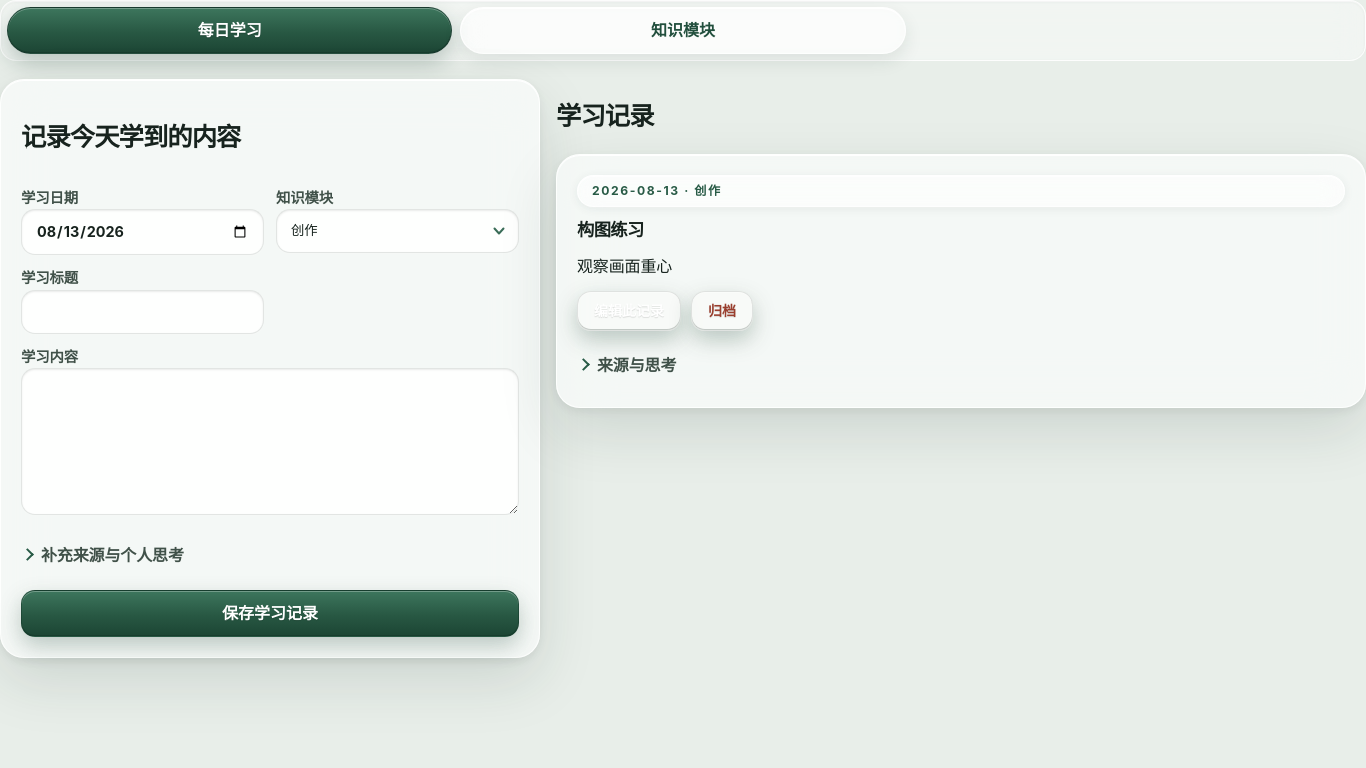
Scenario: PersonalKnowledgeWorkspace › uses compact module actions, confirms archive, and keeps archived modules discoverable
The width and height of the screenshot is (1366, 768).
Click the tab "知识模块".
click(683, 30)  # box top-left (460, 7), bottom-right (906, 54)
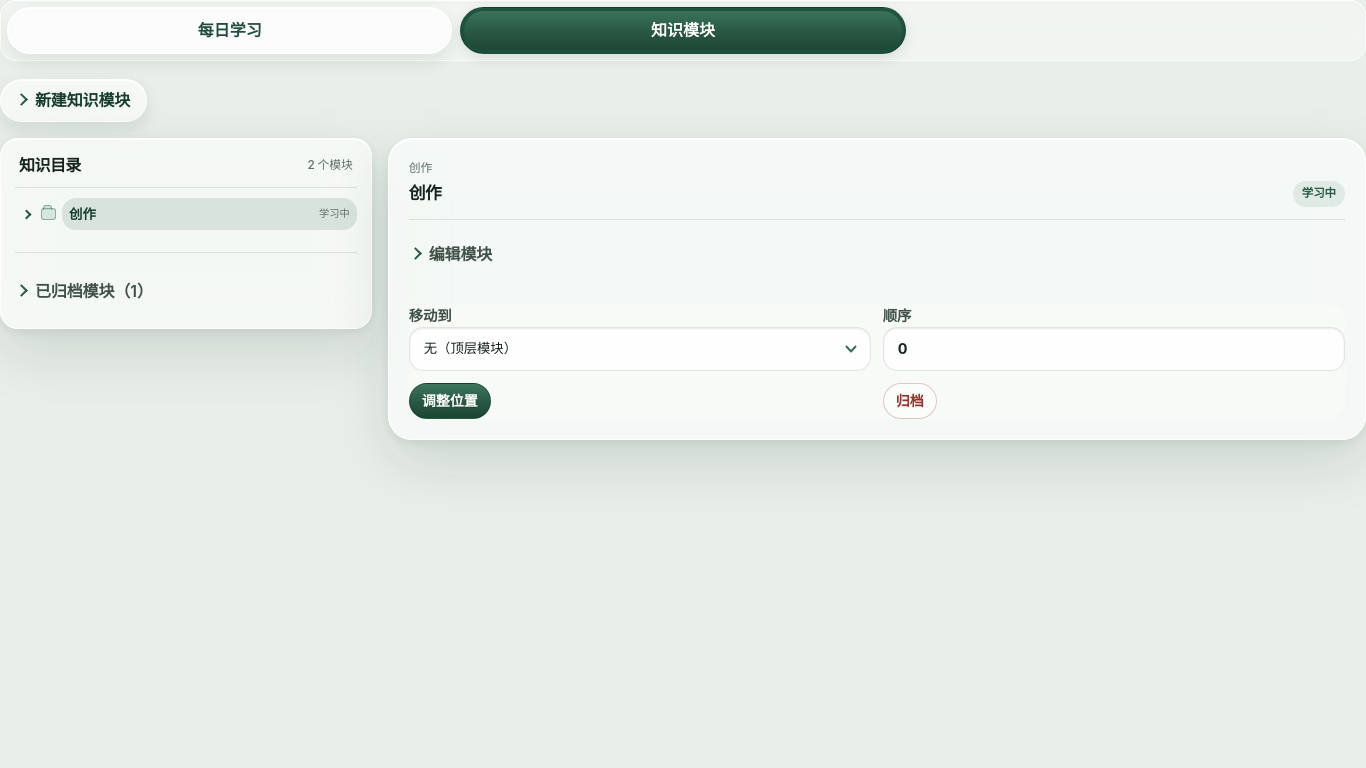
Click the button named "展开文件夹：创作".
click(26, 214)  # box top-left (15, 200), bottom-right (37, 228)
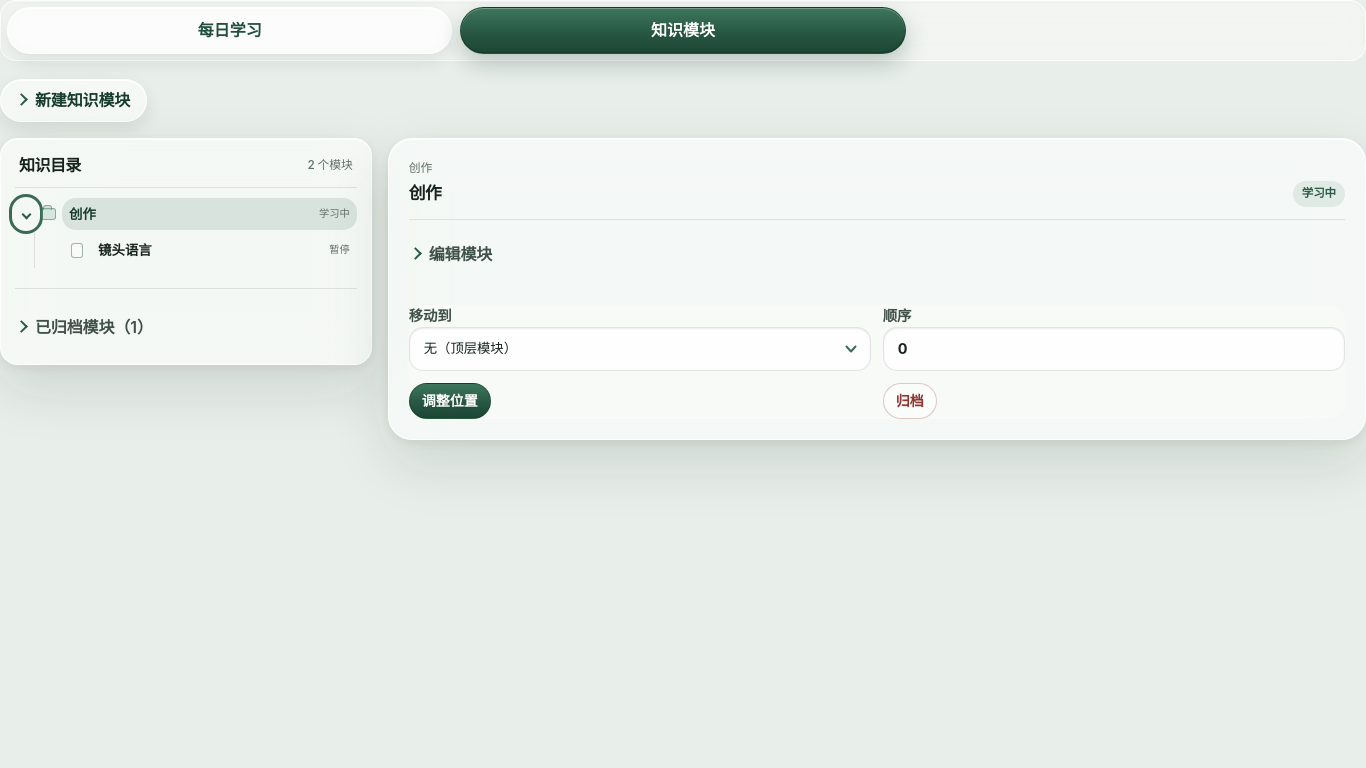
Click the button with aria-label "打开模块：镜头语言".
click(125, 250)  # box top-left (91, 234), bottom-right (357, 266)
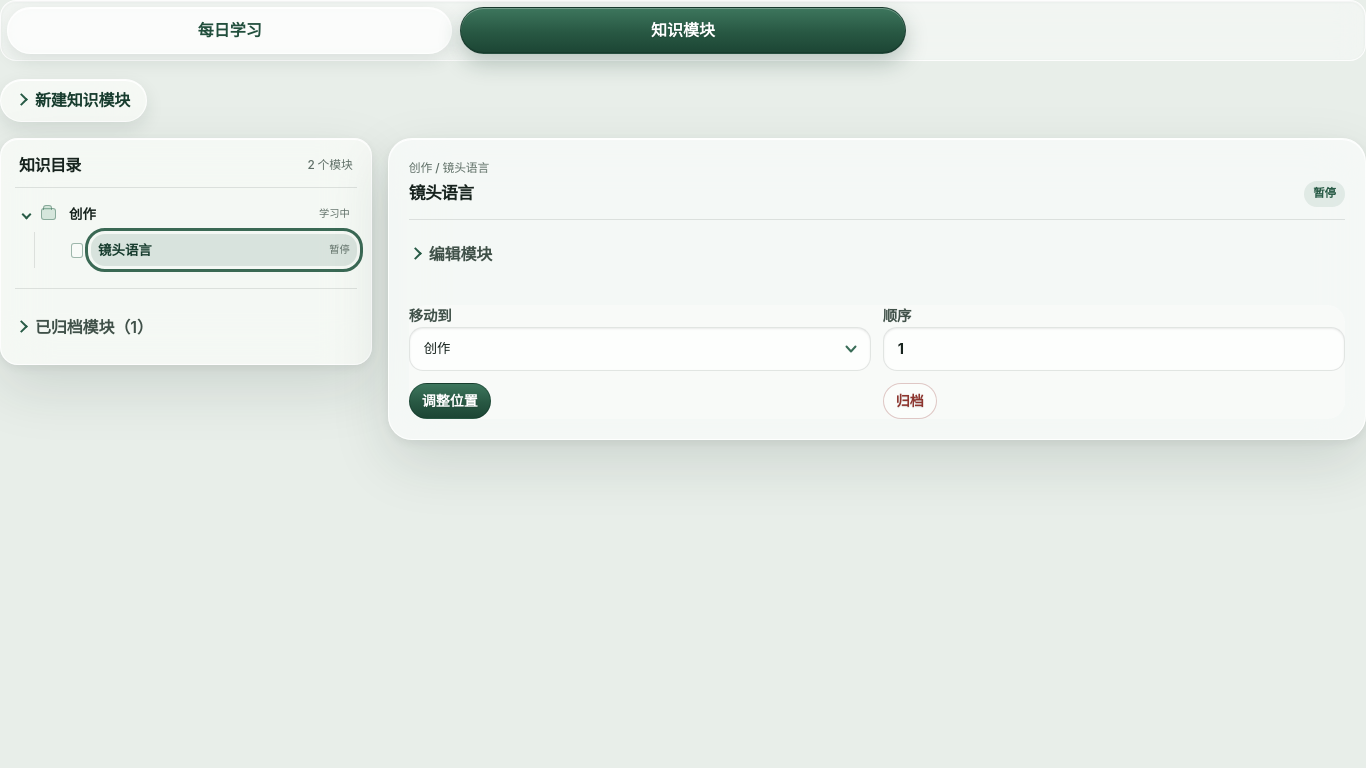
Click the button with aria-label "归档模块：镜头语言".
click(910, 401)  # box top-left (883, 383), bottom-right (937, 419)
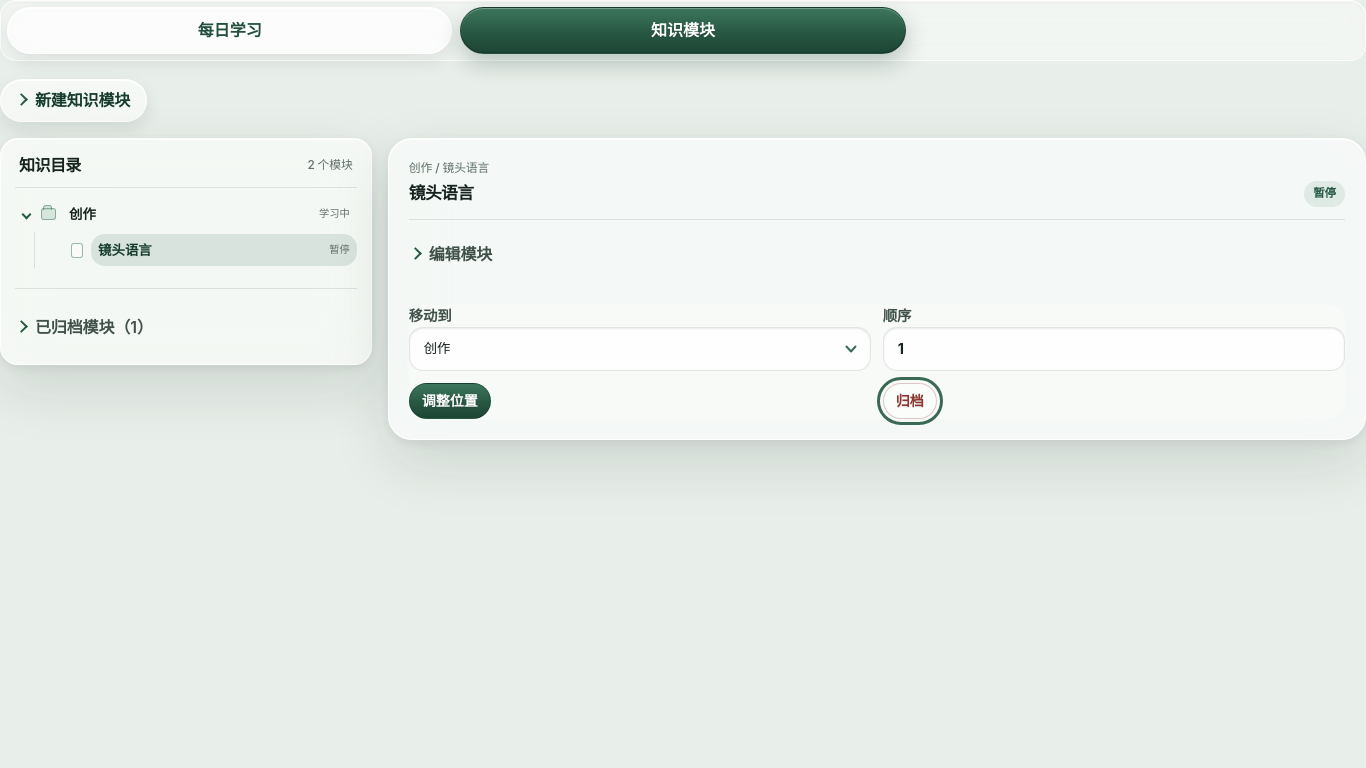
Expected: the text "已归档模块（1）" is shown, top-left (15, 288), bottom-right (357, 350)
Click the heading "已归档模块（1）".
click(94, 327)  # box top-left (35, 317), bottom-right (153, 337)
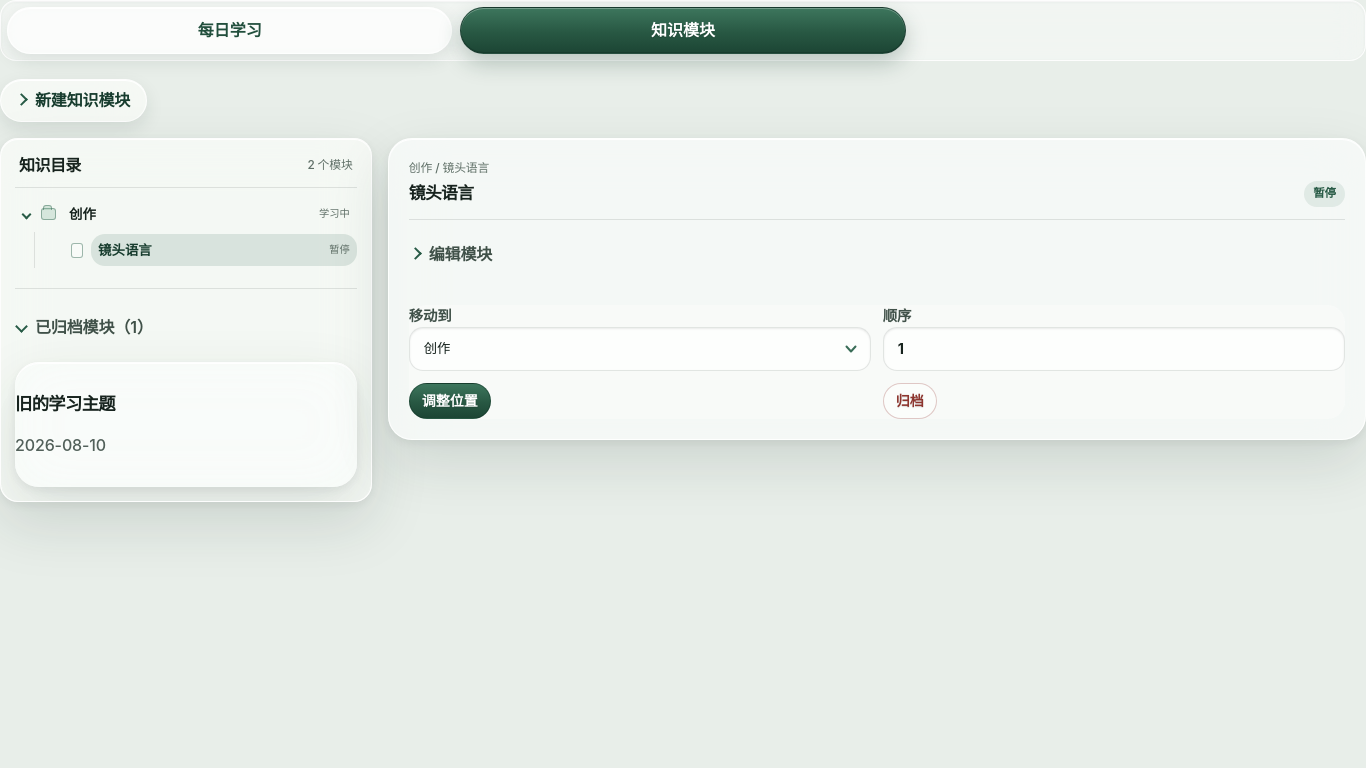
Expected: the heading "旧的学习主题" is shown, top-left (15, 394), bottom-right (115, 414)
Expected: the text "2026-08-10" is shown, top-left (15, 435), bottom-right (106, 455)
